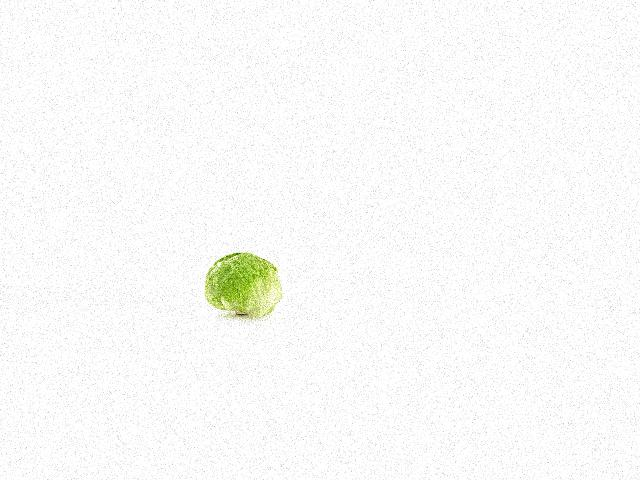lettuce: (195, 250, 283, 313)
